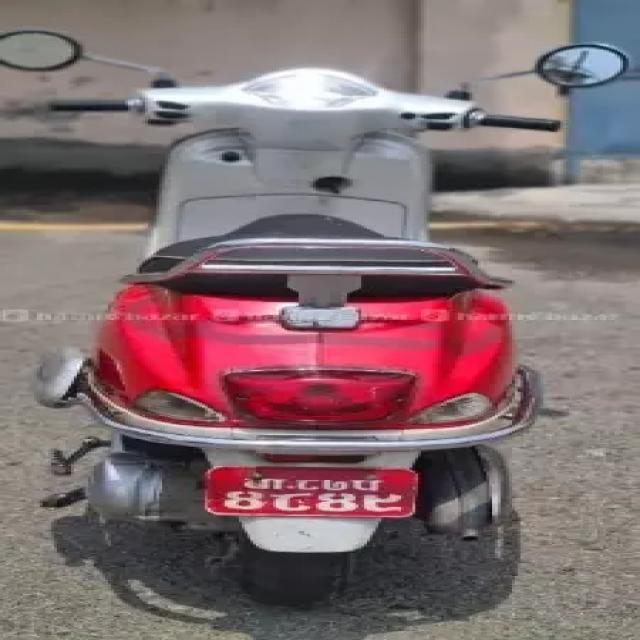License-plate: (203, 462, 431, 524)
